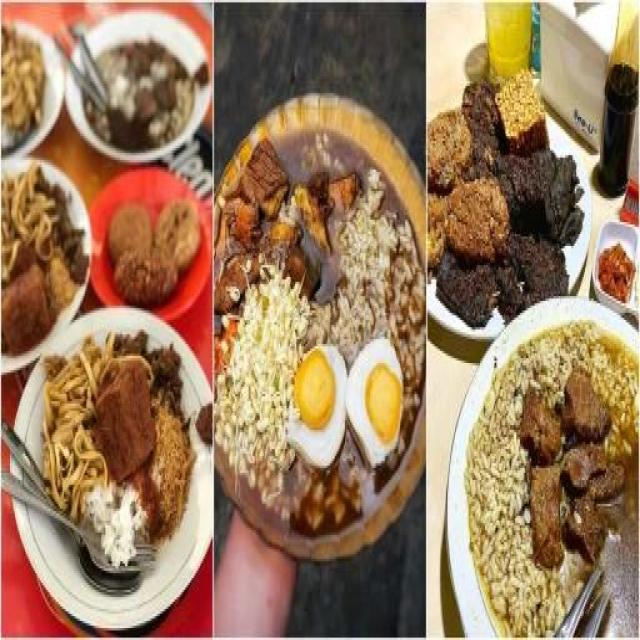Rawon: (223, 142, 414, 535), (482, 318, 632, 640), (81, 23, 196, 158)
